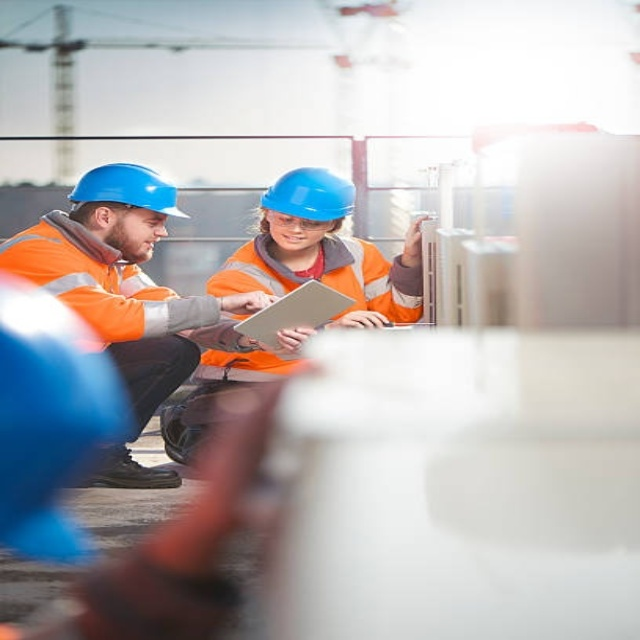Gafas: (267, 209, 329, 231)
Sin_gafas: (124, 215, 169, 229)
Sin_guantes: (395, 210, 431, 261), (219, 290, 278, 315), (332, 310, 391, 330), (274, 325, 316, 353)
Sin_mascara: (130, 236, 163, 255), (276, 231, 309, 250)
